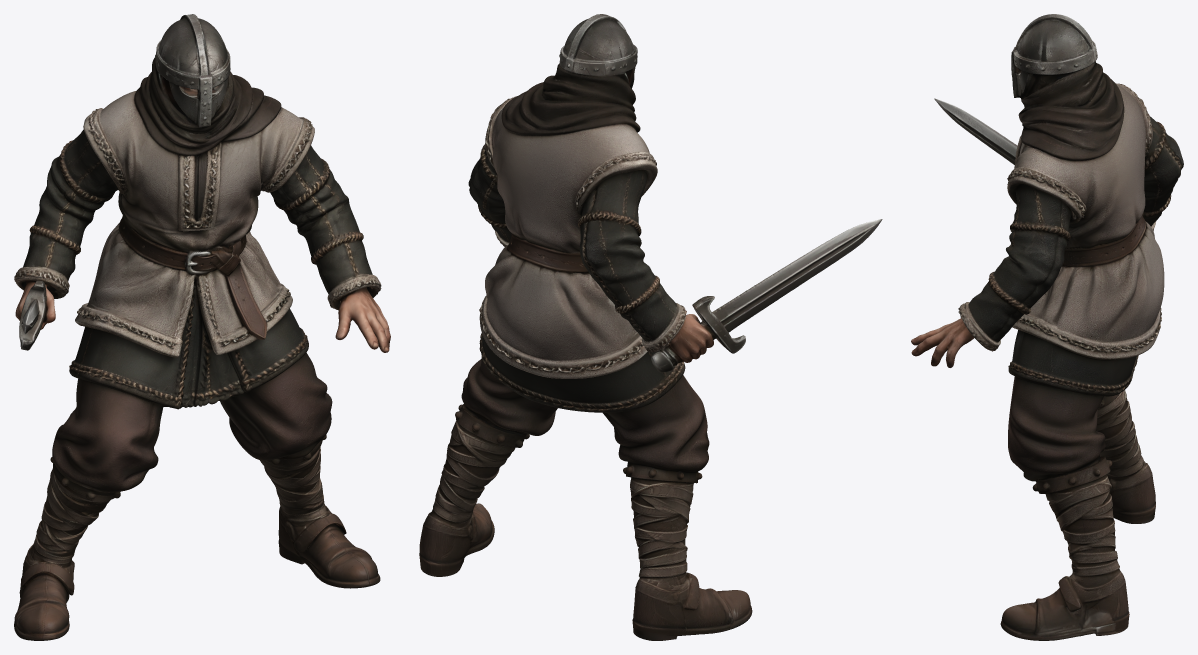
The model's file is iron_vagabond__the_nameless_swordsman.glb.
3 renders of one model, left to right at view 1: azimuth 30°, elevation 25°; view 2: azimuth 150°, elevation 25°; view 3: azimuth 270°, elevation 25°, orthographic. The views are drawn at different scales.
Visible parts, largest first — view 1: Object_6, Object_5, Object_4, Object_7, Object_8, Object_9; view 2: Object_8, Object_7, Object_4, Object_5, Object_9, Object_6; view 3: Object_7, Object_5, Object_4, Object_6, Object_8, Object_9.
Part boxes in pixels (bbox=[...]): Object_6: bbox=[34, 14, 374, 587]; Object_5: bbox=[19, 15, 390, 588]; Object_4: bbox=[14, 33, 390, 640]; Object_7: bbox=[14, 21, 346, 639]; Object_8: bbox=[15, 102, 291, 599]; Object_9: bbox=[14, 15, 343, 635]; Object_8: bbox=[419, 103, 722, 639]; Object_7: bbox=[419, 19, 768, 635]; Object_4: bbox=[444, 31, 841, 629]; Object_5: bbox=[419, 23, 882, 640]; Object_9: bbox=[441, 22, 747, 630]; Object_6: bbox=[467, 14, 800, 553]; Object_7: bbox=[1040, 26, 1143, 640]; Object_5: bbox=[911, 18, 1182, 640]; Object_4: bbox=[911, 39, 1151, 580]; Object_6: bbox=[1012, 14, 1101, 640]; Object_8: bbox=[1063, 84, 1183, 629]; Object_9: bbox=[1062, 20, 1105, 630].
Bounding box in the file's own units: 1.36 × 1.9 × 0.8553.
1 material, 1 textured.
